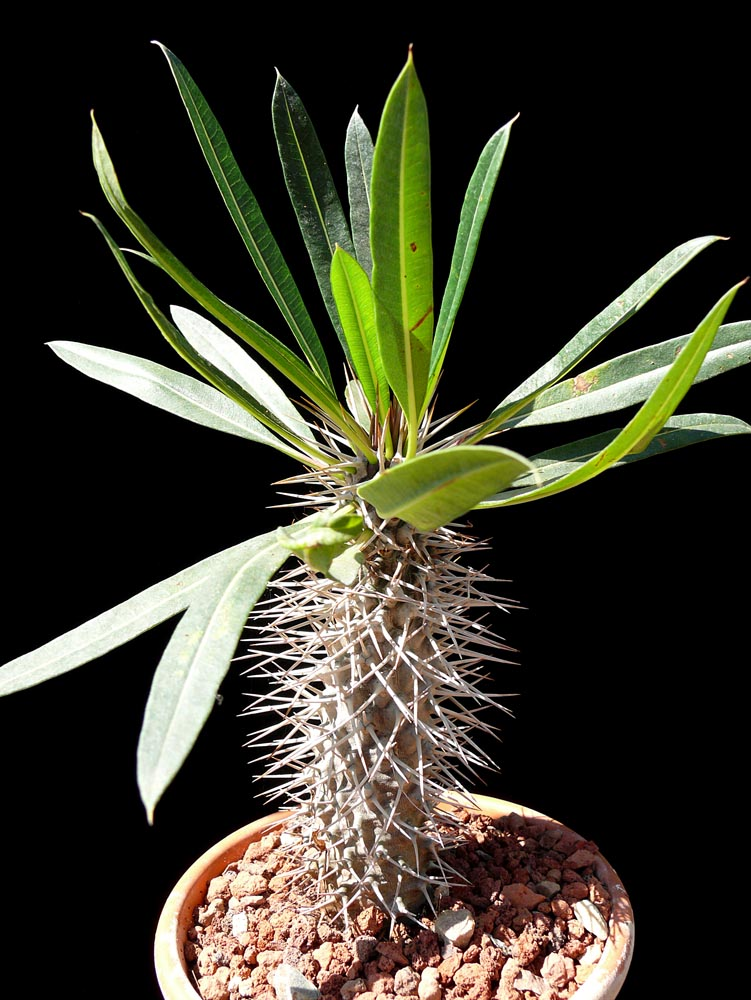Pachypodium geayi: (212, 356, 587, 932)
